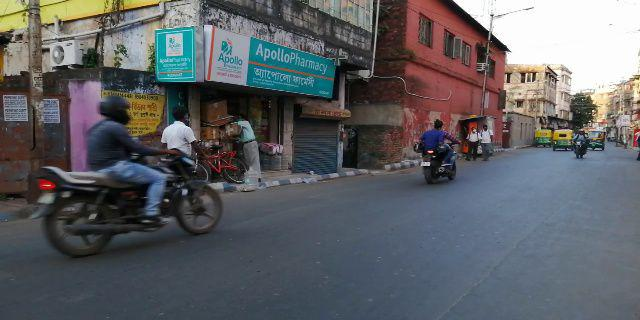Autorickshaw: (551, 125, 574, 156), (532, 124, 551, 152)
Motorbike: (31, 95, 223, 261), (413, 116, 459, 188), (570, 128, 590, 162)
